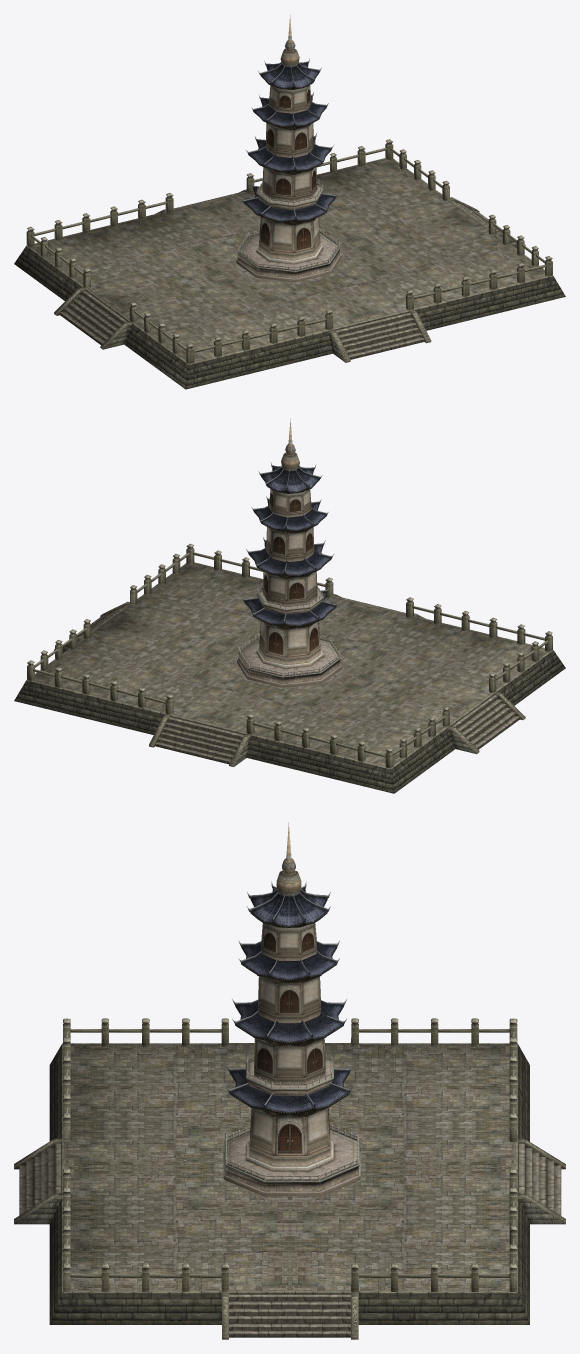
Rendered from ob-013-tower01.glb.
3 views of the same model, one above another, from view 1: azimuth 30°, elevation 25°; view 2: azimuth 150°, elevation 25°; view 3: azimuth 270°, elevation 25° (orthographic). The views are drawn at different scales.
Parts seen in each view (by area): view 1: ob-013-tower01_04, ob-013-tower01_02, ob-013-tower01_03, ob-013-tower01_01; view 2: ob-013-tower01_04, ob-013-tower01_02, ob-013-tower01_03, ob-013-tower01_01; view 3: ob-013-tower01_04, ob-013-tower01_02, ob-013-tower01_03, ob-013-tower01_01.
Boxes of the visible parts, bbox=[...] form: ob-013-tower01_04: bbox=[14, 139, 565, 389]; ob-013-tower01_02: bbox=[241, 48, 338, 264]; ob-013-tower01_03: bbox=[243, 15, 335, 225]; ob-013-tower01_01: bbox=[236, 181, 341, 282]; ob-013-tower01_04: bbox=[14, 543, 565, 793]; ob-013-tower01_02: bbox=[241, 452, 338, 668]; ob-013-tower01_03: bbox=[244, 418, 336, 629]; ob-013-tower01_01: bbox=[237, 585, 341, 687]; ob-013-tower01_04: bbox=[14, 1018, 565, 1339]; ob-013-tower01_02: bbox=[226, 870, 353, 1171]; ob-013-tower01_03: bbox=[229, 822, 349, 1116]; ob-013-tower01_01: bbox=[223, 1054, 360, 1196].
Bounding box in the file's own units: 85.02 × 51.17 × 68.69.
Materials: 4 (4 with a texture image).
